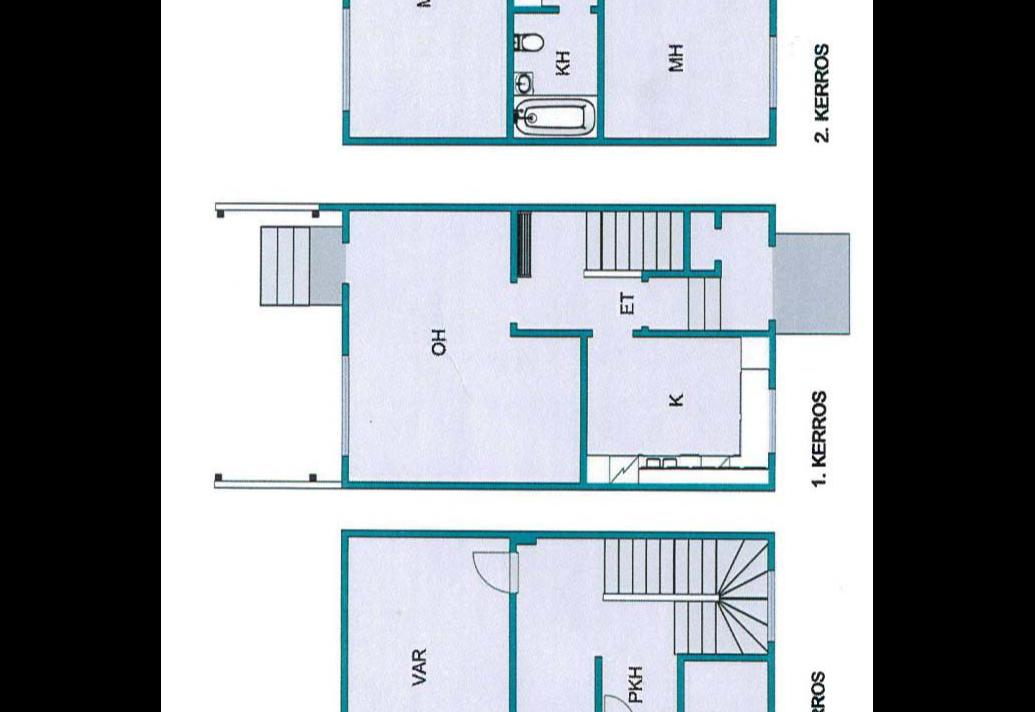bathroom: (511, 11, 599, 140)
door: (470, 544, 520, 600), (602, 688, 640, 712)
perimeter: (339, 204, 775, 487), (340, 531, 779, 712), (340, 0, 778, 145)
stairs: (604, 538, 772, 596), (586, 210, 688, 272), (672, 598, 769, 652), (260, 224, 313, 306), (689, 274, 722, 332)
window: (338, 1, 356, 118), (338, 347, 355, 462), (762, 562, 782, 648), (764, 27, 782, 113), (764, 379, 780, 459)
